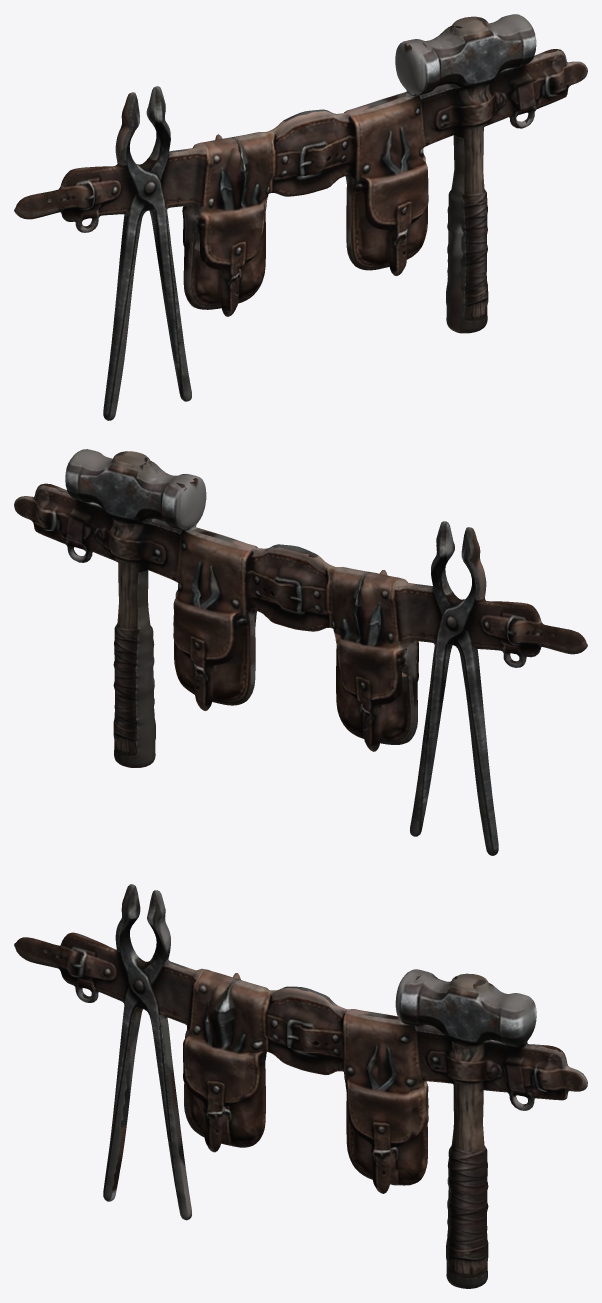
The model's file is pyre_smith_belt.glb.
3 views of the same model, one above another, from view 1: azimuth 30°, elevation 25°; view 2: azimuth 150°, elevation 25°; view 3: azimuth 330°, elevation 25° (orthographic).
Visible parts, largest first — view 1: geometry_0; view 2: geometry_0; view 3: geometry_0.
Part boxes in pixels (<box>): geometry_0: <box>14,14,587,420</box>; geometry_0: <box>14,449,587,855</box>; geometry_0: <box>14,884,587,1288</box>.
Size of the model in its own units: 0.5955 by 0.32 by 0.0531.
1 material, 1 textured.
